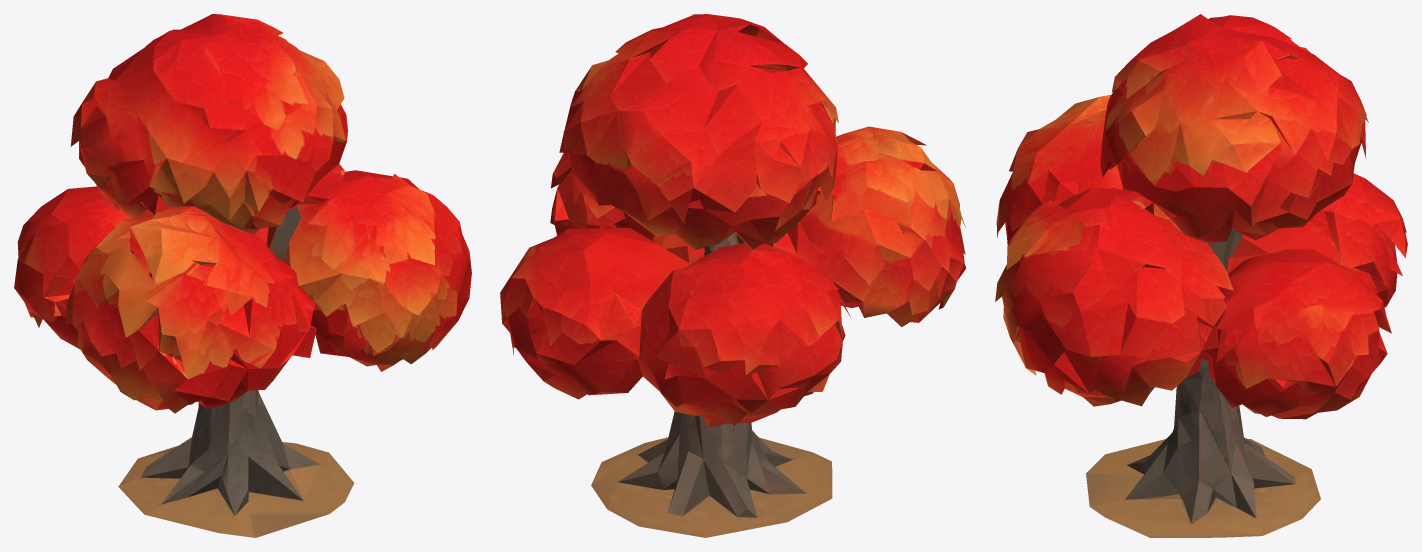
Rendered from tree-maple.glb.
The picture shows the model from 3 angles, left to right: view 1: azimuth 30°, elevation 25°; view 2: azimuth 150°, elevation 25°; view 3: azimuth 270°, elevation 25°; orthographic projection. The views are drawn at different scales.
Bounding box in the file's own units: 5.26 × 6 × 4.86.
Materials: 1 (1 with a texture image).
